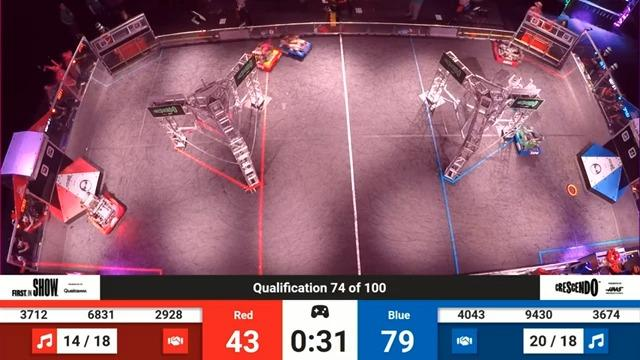robot: (81, 190, 133, 239), (489, 36, 526, 70), (249, 41, 284, 75), (511, 124, 542, 157), (281, 37, 317, 64), (500, 73, 537, 94)
